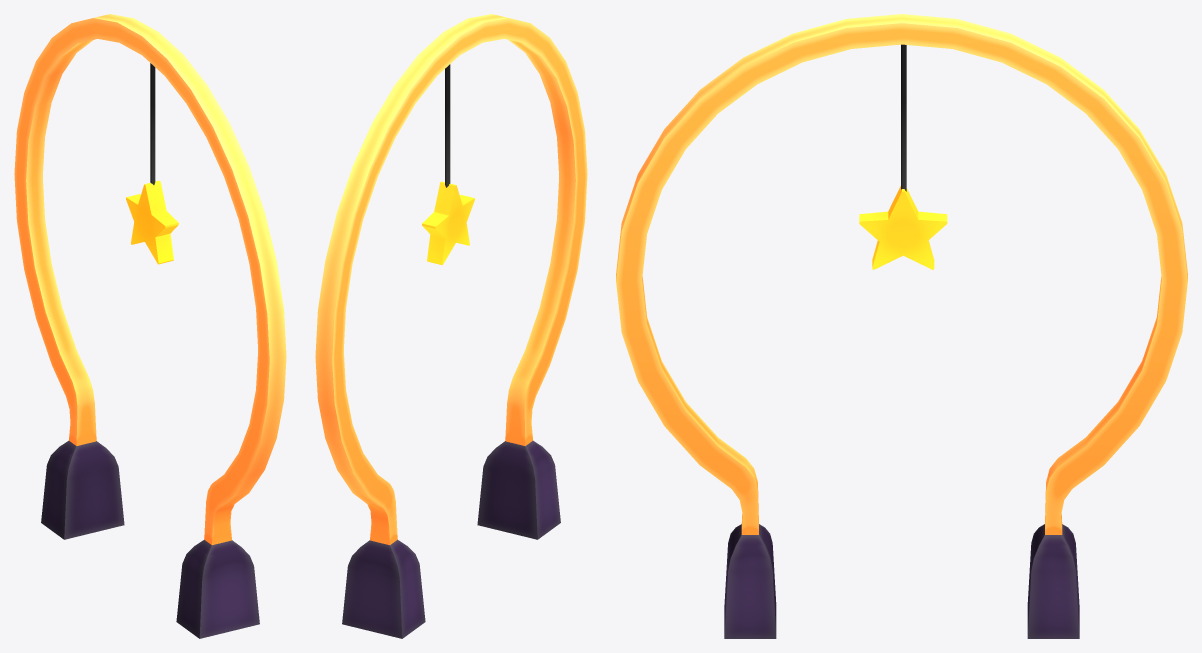
Rendered from SM_Warp_Highpoly.gltf.
The picture shows the model from 3 angles, left to right: view 1: azimuth 30°, elevation 25°; view 2: azimuth 150°, elevation 25°; view 3: azimuth 270°, elevation 25°; orthographic projection. The views are drawn at different scales.
Parts seen in each view (by area): view 1: SM_Warp; view 2: SM_Warp; view 3: SM_Warp.
Part boxes in pixels (x1,y1,x2,y2): SM_Warp: (14, 14, 286, 638); SM_Warp: (315, 14, 587, 638); SM_Warp: (616, 14, 1187, 638).
Size of the model in its own units: 0.9 by 7.69 by 6.6.
Materials: 2 (2 with a texture image).
